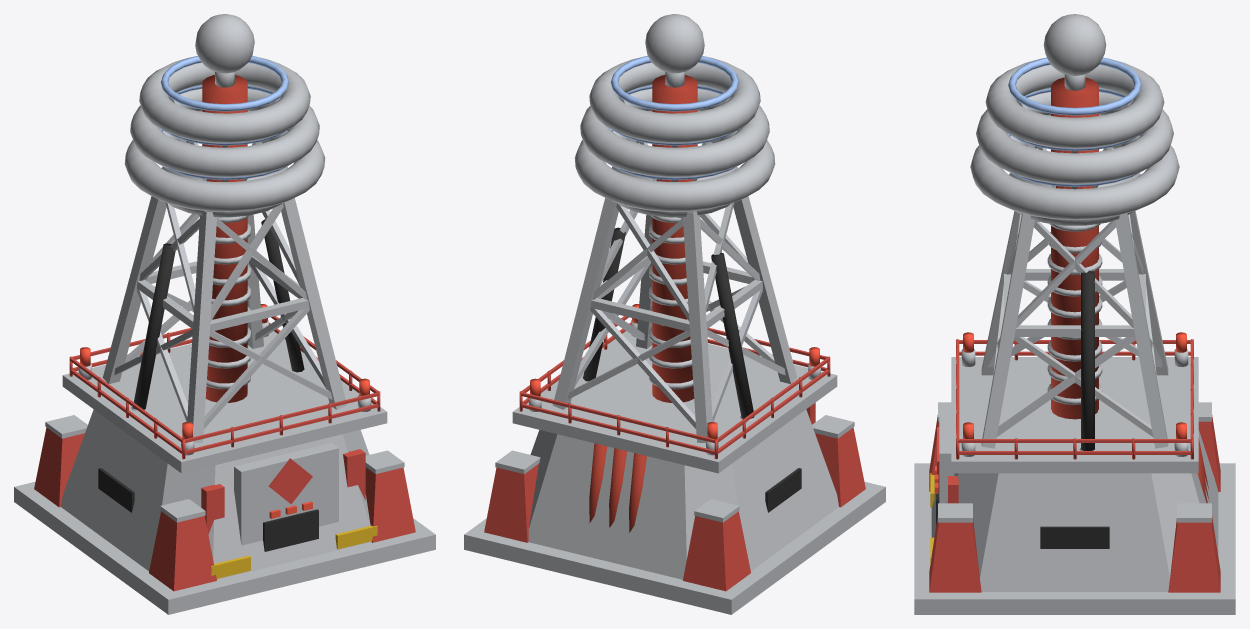
The model's file is tesla.glb.
3 views of the same model, side by side, from view 1: azimuth 30°, elevation 25°; view 2: azimuth 150°, elevation 25°; view 3: azimuth 270°, elevation 25° (orthographic). The views are drawn at different scales.
Parts seen in each view (by area): view 1: Tesla; view 2: Tesla; view 3: Tesla.
Part boxes in pixels (x1,y1,x2,y2): Tesla: (14,14,435,614); Tesla: (464,14,885,614); Tesla: (914,14,1235,614).
Bounding box in the file's own units: 6.29 × 11.45 × 6.29.
